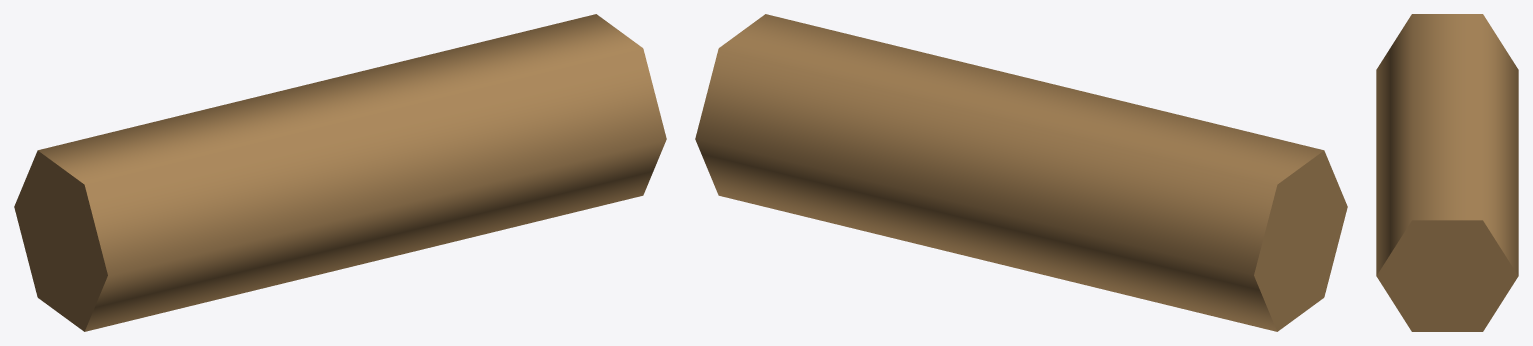
File: tool_rolling_pin.glb
3 renders of one model, left to right at view 1: azimuth 30°, elevation 25°; view 2: azimuth 150°, elevation 25°; view 3: azimuth 270°, elevation 25°, orthographic. The views are drawn at different scales.
Visible parts, largest first — view 1: tool_rolling_pin; view 2: tool_rolling_pin; view 3: tool_rolling_pin.
Part boxes in pixels (x1,y1,x2,y2): tool_rolling_pin: (14,14,666,331); tool_rolling_pin: (695,14,1347,331); tool_rolling_pin: (1376,14,1518,331).
Bounding box in the file's own units: 0.11 × 0.0277 × 0.032.
